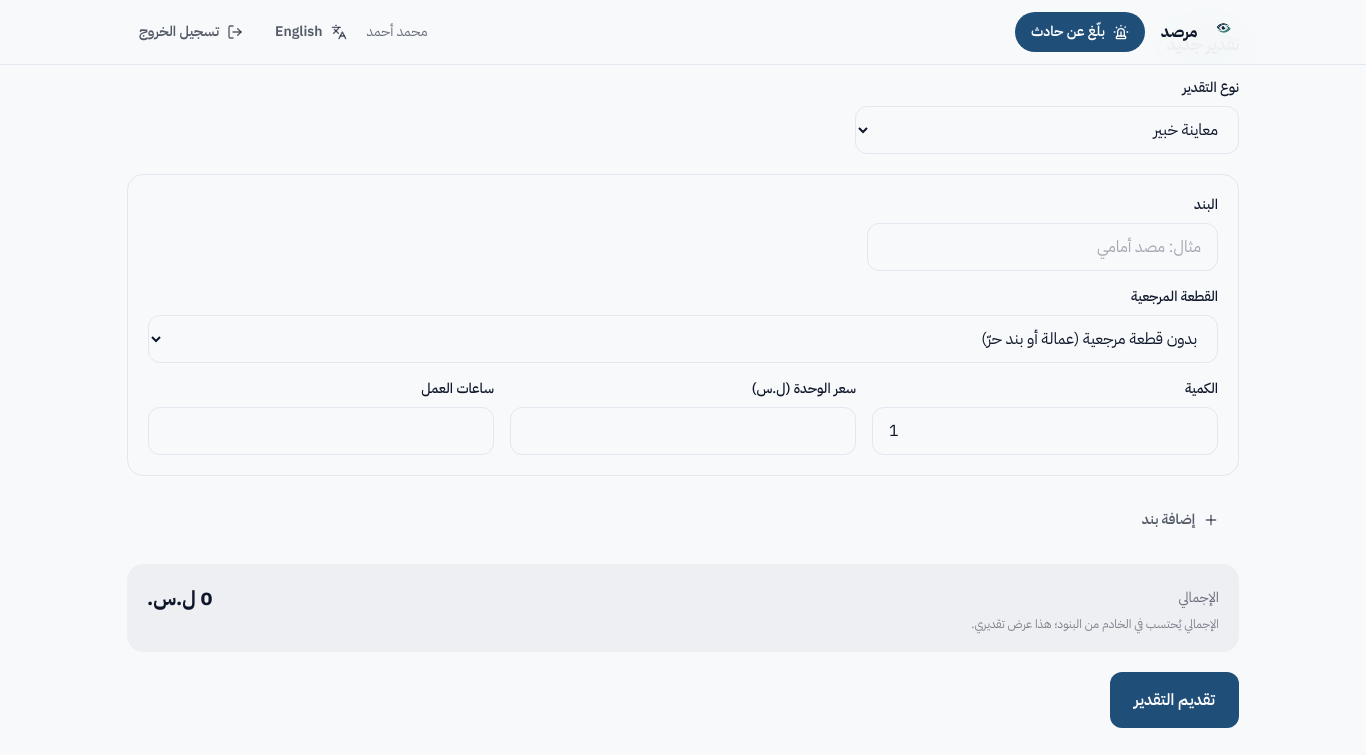
Scenario: the estimate builder › refuses an incomplete line rather than letting the API reject it
This screenshot has width=1366, height=755.
(page scrolled)
Click the button "تقديم التقدير". click: point(1174, 700)
box: [1110,672,1239,728]
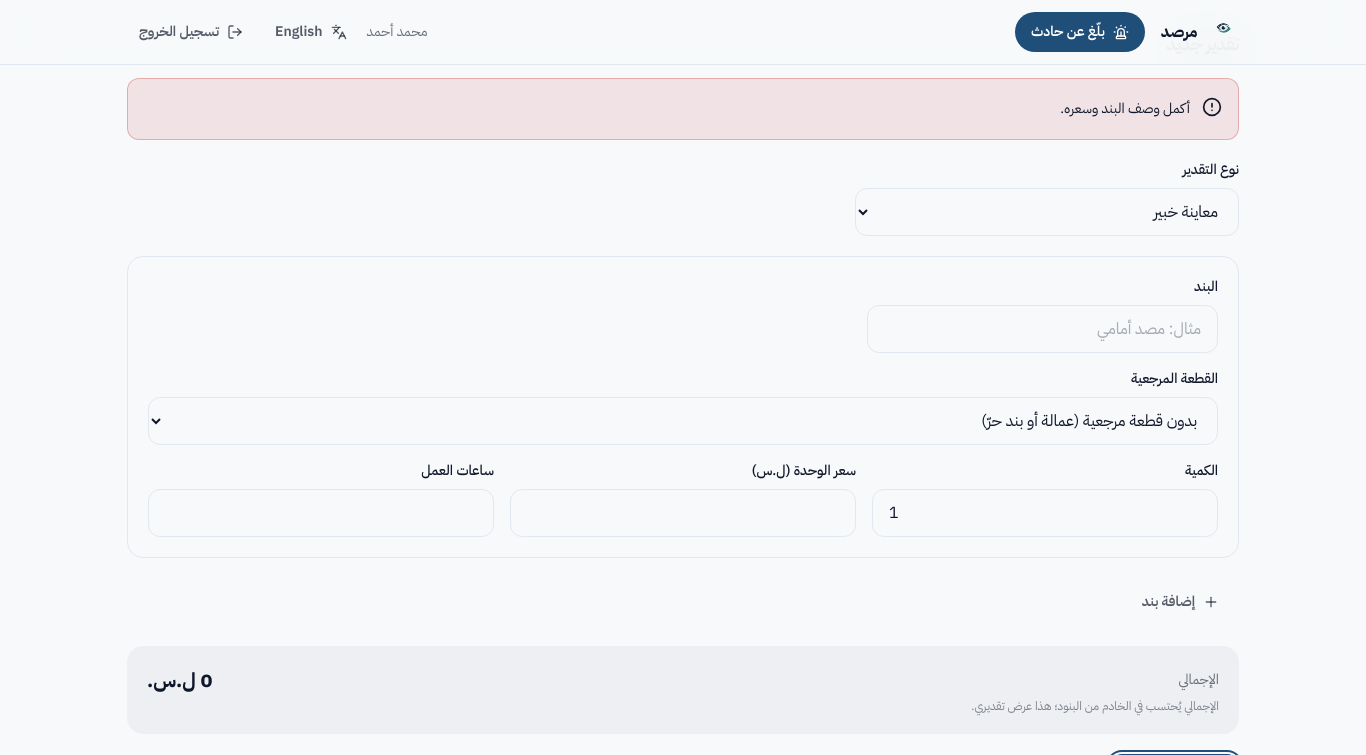
Result: the text "أكمل وصف البند وسعره." is shown at [1060,95,1190,123]
